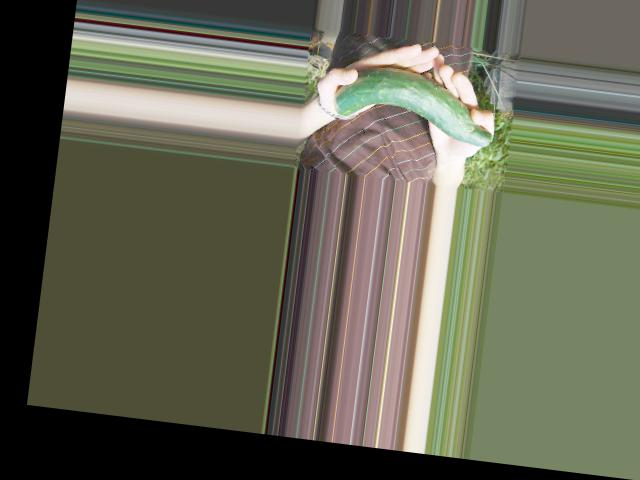cucumber: (330, 61, 498, 147)
